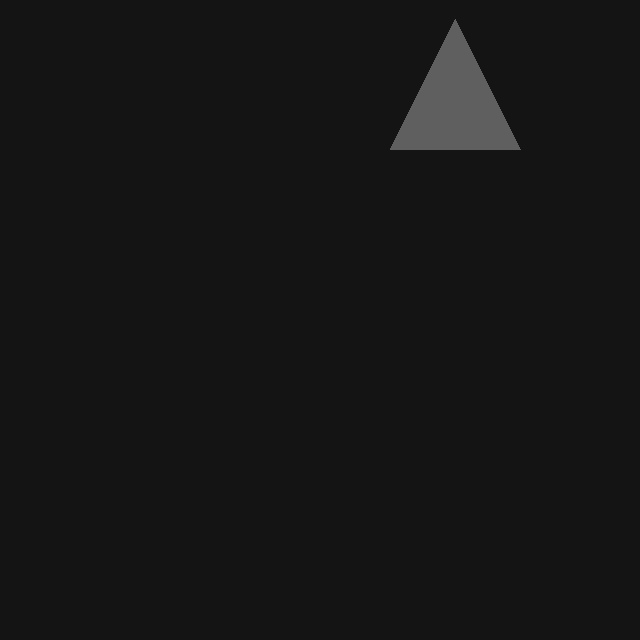triangle: (390, 19, 520, 149)
